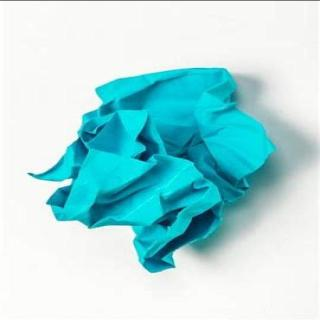Anorganik: (22, 62, 284, 278)
